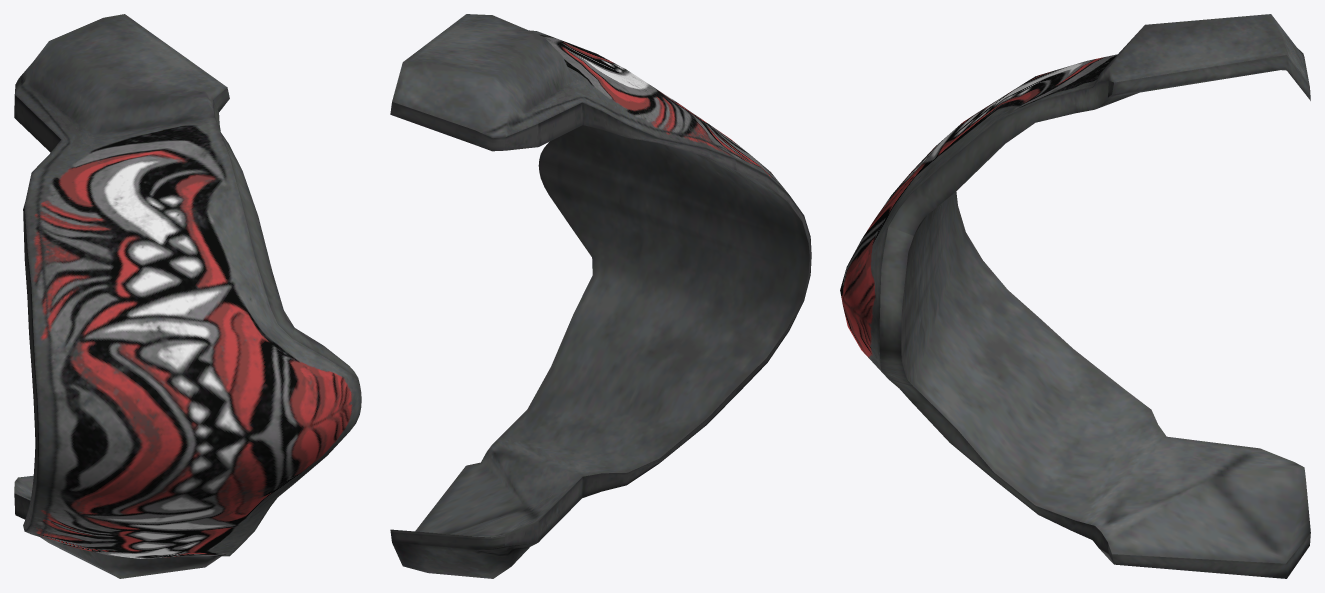
The model's file is M_TaskForceBallisticMask.fbx.
The picture shows the model from 3 angles, left to right: view 1: azimuth 30°, elevation 25°; view 2: azimuth 150°, elevation 25°; view 3: azimuth 270°, elevation 25°; orthographic projection. The views are drawn at different scales.
Visible parts, largest first — view 1: Ballistic Mask; view 2: Ballistic Mask; view 3: Ballistic Mask.
Boxes of the visible parts, <box> form: Ballistic Mask: <box>14,14,361,578</box>; Ballistic Mask: <box>390,14,811,578</box>; Ballistic Mask: <box>840,14,1310,578</box>.
Bounding box in the file's own units: 0.0794 × 0.1299 × 0.1046.
